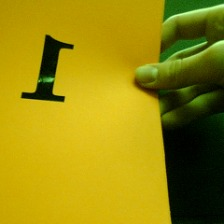orange1: (17, 30, 79, 107)
